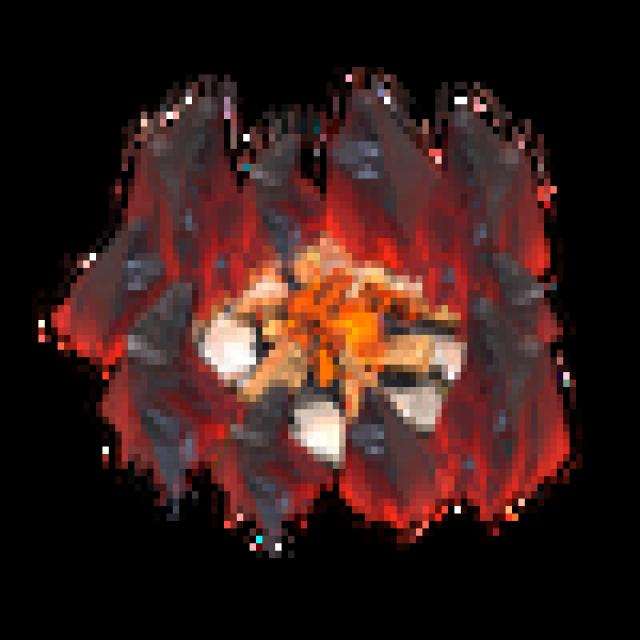army_camp: (16, 22, 597, 594)
